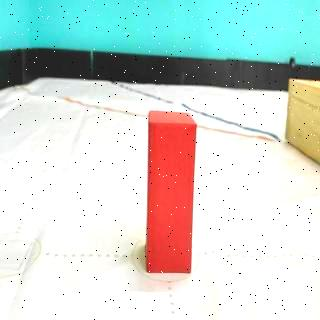redbox: (146, 110, 198, 274)
